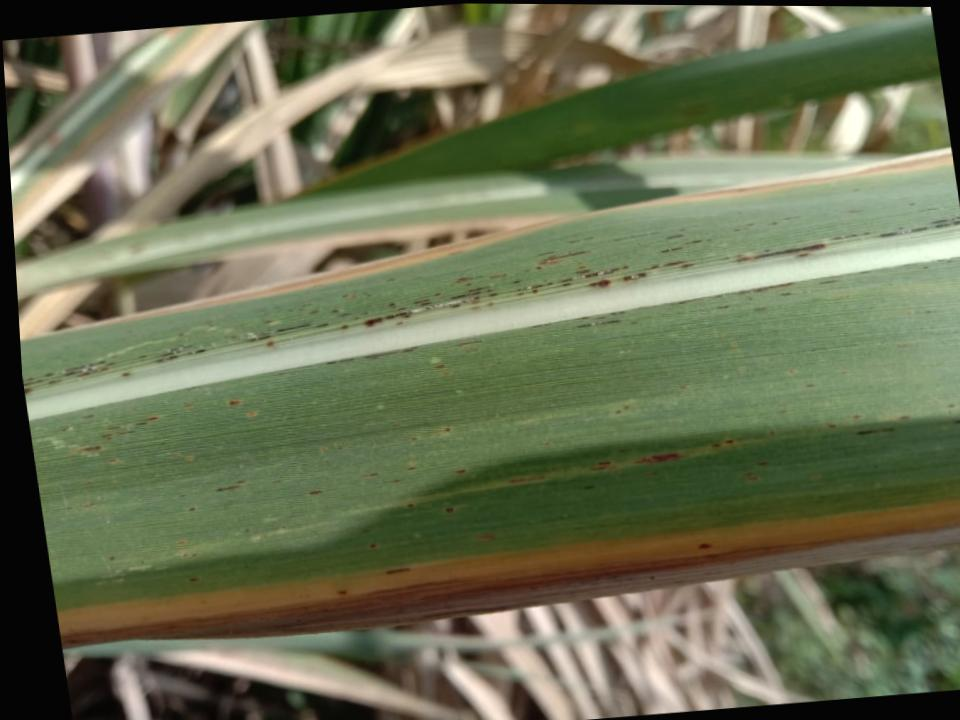Rust: (362, 287, 484, 328), (516, 263, 628, 296), (877, 215, 960, 239), (733, 243, 826, 264), (534, 251, 591, 270), (63, 360, 116, 377), (734, 281, 794, 296), (360, 346, 419, 360), (632, 451, 687, 465), (155, 345, 193, 363), (612, 231, 660, 242), (573, 319, 622, 329), (827, 231, 875, 241), (273, 322, 313, 334), (647, 260, 695, 269), (22, 377, 44, 395), (852, 427, 894, 436), (507, 475, 547, 484), (68, 445, 102, 455), (621, 272, 649, 282), (243, 332, 271, 342), (323, 357, 354, 366), (588, 461, 615, 471), (564, 236, 595, 244), (382, 567, 412, 575), (451, 340, 484, 347), (454, 276, 482, 284), (385, 302, 407, 312), (584, 280, 610, 288), (658, 247, 683, 254), (668, 300, 692, 307), (816, 279, 844, 285), (412, 298, 431, 306), (488, 272, 507, 280), (682, 239, 703, 246), (741, 472, 757, 481), (82, 501, 96, 511), (186, 349, 206, 356), (216, 486, 239, 492), (224, 399, 241, 407), (536, 250, 555, 257), (606, 310, 628, 316), (531, 322, 552, 328), (665, 233, 683, 240), (698, 543, 713, 551), (752, 306, 768, 313), (641, 471, 659, 477), (361, 471, 379, 477), (314, 322, 329, 329), (100, 433, 113, 441), (474, 534, 494, 539), (404, 465, 418, 472), (107, 457, 119, 465), (105, 425, 121, 431), (46, 379, 62, 385), (486, 289, 498, 297), (583, 484, 596, 491), (181, 402, 194, 409), (80, 414, 95, 420), (246, 410, 256, 419), (341, 294, 356, 300), (336, 588, 347, 596), (336, 313, 353, 318), (452, 468, 466, 474), (778, 291, 792, 297), (384, 276, 396, 283), (118, 431, 134, 436), (145, 416, 158, 422), (711, 293, 724, 299), (592, 316, 607, 321), (440, 371, 452, 377), (265, 340, 274, 348), (308, 491, 322, 496), (134, 421, 148, 426), (715, 305, 729, 310), (925, 207, 939, 212), (390, 478, 401, 484), (119, 372, 130, 378), (330, 308, 343, 313), (444, 507, 454, 513), (898, 415, 910, 420), (434, 363, 444, 369), (42, 373, 54, 378), (307, 309, 319, 314), (952, 418, 960, 425), (945, 403, 956, 408), (852, 415, 863, 420), (710, 443, 721, 448), (616, 448, 627, 453), (188, 577, 197, 583), (577, 316, 590, 320), (360, 293, 373, 297), (846, 210, 863, 213), (394, 321, 404, 326), (470, 305, 480, 310), (757, 462, 768, 466), (769, 430, 776, 436), (177, 331, 184, 337), (369, 543, 377, 548), (108, 555, 116, 560), (138, 355, 148, 359), (340, 325, 348, 330), (359, 312, 369, 316), (433, 292, 441, 297), (486, 302, 494, 307), (827, 424, 836, 428), (464, 283, 473, 287), (406, 503, 413, 508), (443, 427, 450, 432), (237, 480, 245, 484), (409, 437, 417, 441), (512, 280, 520, 284), (189, 508, 196, 512), (725, 440, 732, 444), (907, 203, 916, 206), (181, 553, 187, 557), (353, 317, 359, 320), (191, 554, 196, 557)
Yellow: (56, 498, 960, 650)
